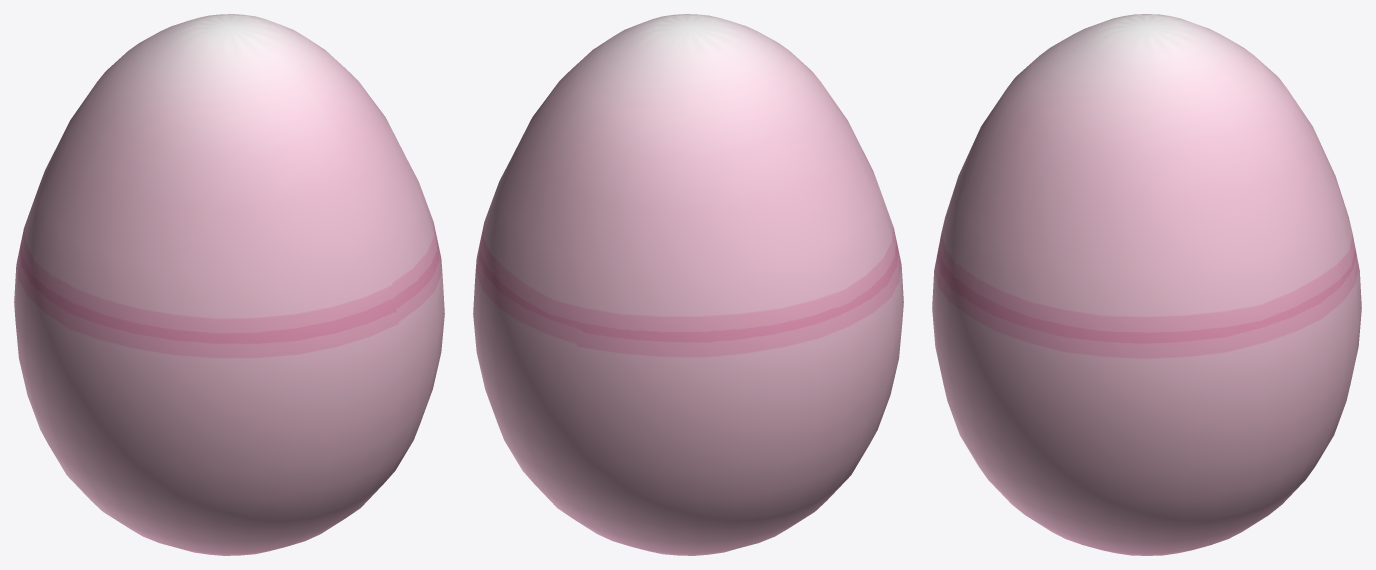
File: EasterEgg.fbx
3 views of the same model, side by side, from view 1: azimuth 30°, elevation 25°; view 2: azimuth 150°, elevation 25°; view 3: azimuth 270°, elevation 25° (orthographic).
Visible parts, largest first — view 1: Sphere.001; view 2: Sphere.001; view 3: Sphere.001.
Boxes of the visible parts, x1,y1,x2,y2 form: Sphere.001: (14,14,444,555); Sphere.001: (473,14,903,555); Sphere.001: (932,14,1361,555).
Bounding box in the file's own units: 0.124 × 0.1611 × 0.1232.
